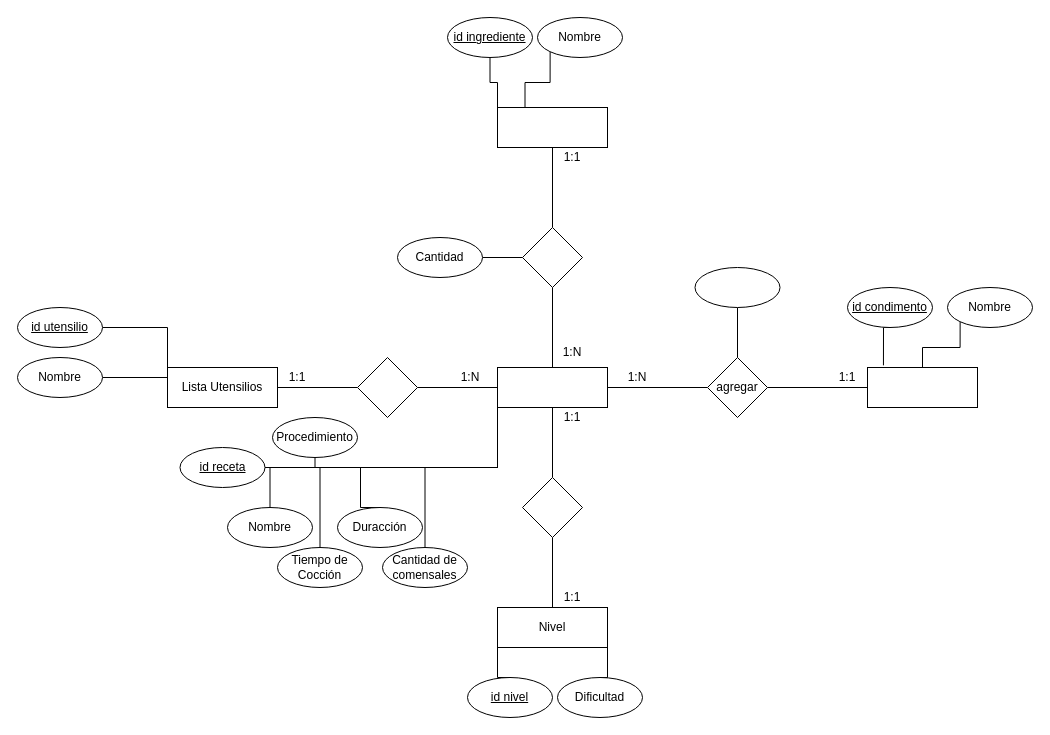
Image size: 1050x735. Some labels were removed from this diagram. Each missing label, with the centre of its shape:
Lista de condimento: point (922, 387)
Lista Ingredientes: point (552, 127)
listado: point (552, 257)
Momento de agregación: point (737, 287)
necesita: point (387, 387)
Receta: point (552, 387)
requerido: point (552, 507)
